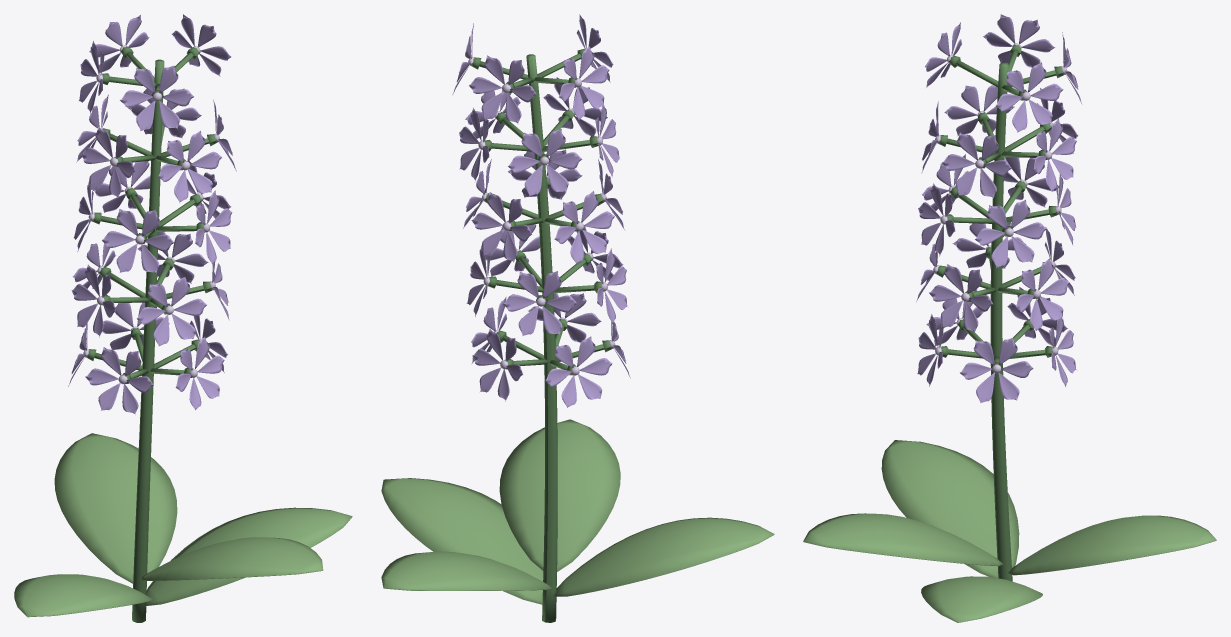
File: hyacinth-rare-v2.glb
3 views of the same model, side by side, from view 1: azimuth 30°, elevation 25°; view 2: azimuth 150°, elevation 25°; view 3: azimuth 270°, elevation 25° (orthographic).
Parts seen in each view (by area): view 1: hyacinth-rare-v2-petal, hyacinth-rare-v2-leaf, hyacinth-rare-v2-stem, hyacinth-rare-v2-center; view 2: hyacinth-rare-v2-leaf, hyacinth-rare-v2-petal, hyacinth-rare-v2-stem, hyacinth-rare-v2-center; view 3: hyacinth-rare-v2-leaf, hyacinth-rare-v2-petal, hyacinth-rare-v2-stem, hyacinth-rare-v2-center.
Boxes of the visible parts, x1,y1,x2,y2 form: hyacinth-rare-v2-petal: (68, 14, 236, 414); hyacinth-rare-v2-leaf: (14, 433, 352, 617); hyacinth-rare-v2-stem: (87, 46, 216, 622); hyacinth-rare-v2-center: (83, 45, 219, 384); hyacinth-rare-v2-leaf: (381, 419, 774, 604); hyacinth-rare-v2-petal: (452, 14, 630, 407); hyacinth-rare-v2-stem: (471, 48, 611, 622); hyacinth-rare-v2-center: (468, 48, 615, 375); hyacinth-rare-v2-leaf: (803, 440, 1216, 622); hyacinth-rare-v2-petal: (916, 14, 1082, 402); hyacinth-rare-v2-stem: (936, 44, 1063, 581); hyacinth-rare-v2-center: (933, 43, 1067, 373).
Bounding box in the file's own units: 0.9631 × 1.49 × 0.9735.
